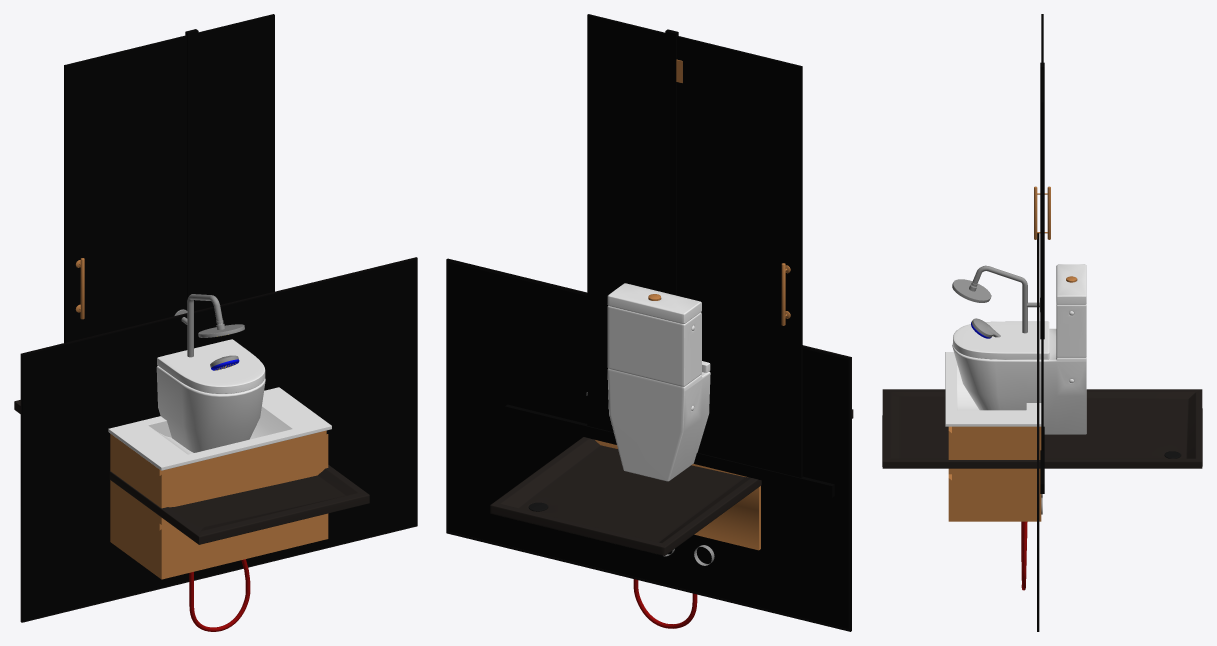
Rendered from BTH_ELIX_Standard_01.FBX.
3 renders of one model, left to right at view 1: azimuth 30°, elevation 25°; view 2: azimuth 150°, elevation 25°; view 3: azimuth 270°, elevation 25°, orthographic. The views are drawn at different scales.
Visible parts, largest first — view 1: BTH_ELIX_Mirror, BTH_ELIX_Shower_Door, BTH_ELIX_Sink, BTH_ELIX_Shower_Glass, BTH_ELIX_Toilet, BTH_ELIX_Shower_Plate, BTH_ELIX_Shower_Edge_Side, BTH_ELIX_Faucet_Shower; view 2: BTH_ELIX_Mirror, BTH_ELIX_Shower_Glass, BTH_ELIX_Shower_Door, BTH_ELIX_Toilet, BTH_ELIX_Shower_Plate, BTH_ELIX_Shower_Edge_Bot, BTH_ELIX_Shower_Edge_Side, BTH_ELIX_Sink, BTH_ELIX_Faucet_Shower; view 3: BTH_ELIX_Shower_Plate, BTH_ELIX_Toilet, BTH_ELIX_Sink, BTH_ELIX_Faucet_Shower, BTH_ELIX_Shower_Glass, BTH_ELIX_Mirror, BTH_ELIX_Shower_Edge_Side, BTH_ELIX_Shower_Door.
Boxes of the visible parts, x1=… form: BTH_ELIX_Mirror: x1=20, y1=257, x2=417, y2=622; BTH_ELIX_Shower_Door: x1=64, y1=35, x2=187, y2=342; BTH_ELIX_Sink: x1=108, y1=387, x2=331, y2=579; BTH_ELIX_Shower_Glass: x1=110, y1=14, x2=274, y2=309; BTH_ELIX_Toilet: x1=156, y1=339, x2=265, y2=452; BTH_ELIX_Shower_Plate: x1=14, y1=400, x2=369, y2=544; BTH_ELIX_Shower_Edge_Side: x1=185, y1=29, x2=198, y2=311; BTH_ELIX_Faucet_Shower: x1=174, y1=294, x2=250, y2=631; BTH_ELIX_Mirror: x1=446, y1=258, x2=851, y2=631; BTH_ELIX_Shower_Glass: x1=587, y1=14, x2=755, y2=466; BTH_ELIX_Shower_Door: x1=676, y1=36, x2=802, y2=477; BTH_ELIX_Toilet: x1=607, y1=283, x2=710, y2=481; BTH_ELIX_Shower_Plate: x1=490, y1=409, x2=853, y2=555; BTH_ELIX_Shower_Edge_Bot: x1=505, y1=404, x2=834, y2=497; BTH_ELIX_Shower_Edge_Side: x1=665, y1=29, x2=678, y2=295; BTH_ELIX_Sink: x1=586, y1=392, x2=760, y2=550; BTH_ELIX_Faucet_Shower: x1=633, y1=545, x2=714, y2=628; BTH_ELIX_Shower_Plate: x1=882, y1=389, x2=1202, y2=468; BTH_ELIX_Toilet: x1=952, y1=264, x2=1086, y2=434; BTH_ELIX_Sink: x1=945, y1=352, x2=1041, y2=521; BTH_ELIX_Faucet_Shower: x1=952, y1=265, x2=1042, y2=590; BTH_ELIX_Shower_Glass: x1=1041, y1=33, x2=1043, y2=450; BTH_ELIX_Mirror: x1=1037, y1=233, x2=1039, y2=631; BTH_ELIX_Shower_Edge_Side: x1=1040, y1=62, x2=1044, y2=339; BTH_ELIX_Shower_Door: x1=1034, y1=14, x2=1050, y2=239.
Size of the model in its own units: 185 by 267 by 150.
